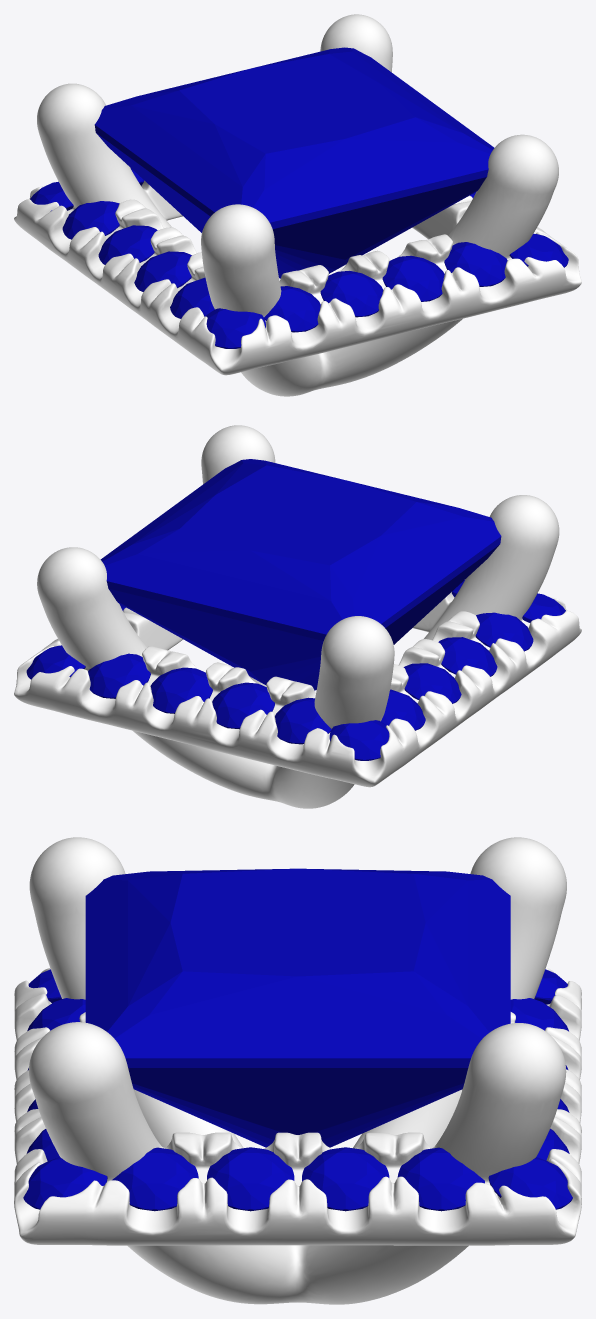
The model's file is Princess.glb.
3 renders of one model, top to bottom at view 1: azimuth 30°, elevation 25°; view 2: azimuth 150°, elevation 25°; view 3: azimuth 270°, elevation 25°, orthographic. The views are drawn at different scales.
Visible parts, largest first — view 1: /Princess Single Halo.3dm, Diamond_Princess, Diamond_Round (×11); view 2: /Princess Single Halo.3dm, Diamond_Princess, Diamond_Round (×11); view 3: /Princess Single Halo.3dm, Diamond_Princess, Diamond_Round (×9).
Boxes of the visible parts, box(x1,y1,x2,y2) form: /Princess Single Halo.3dm: box(14, 14, 581, 396); Diamond_Princess: box(94, 47, 494, 278); Diamond_Round (×11): box(30, 181, 568, 348); /Princess Single Halo.3dm: box(14, 425, 581, 808); Diamond_Princess: box(100, 459, 501, 690); Diamond_Round (×11): box(26, 593, 565, 760); /Princess Single Halo.3dm: box(14, 837, 581, 1304); Diamond_Princess: box(85, 868, 510, 1147); Diamond_Round (×9): box(23, 969, 572, 1211).
Size of the model in its own units: 9.17 by 6.59 by 9.17.
